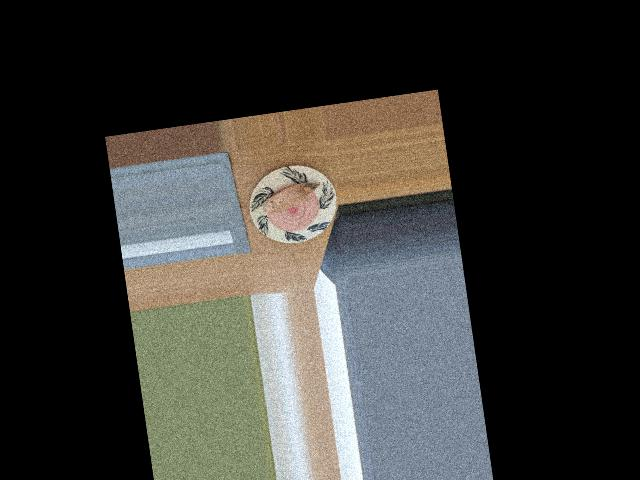sweet_potato: (261, 176, 318, 217)
